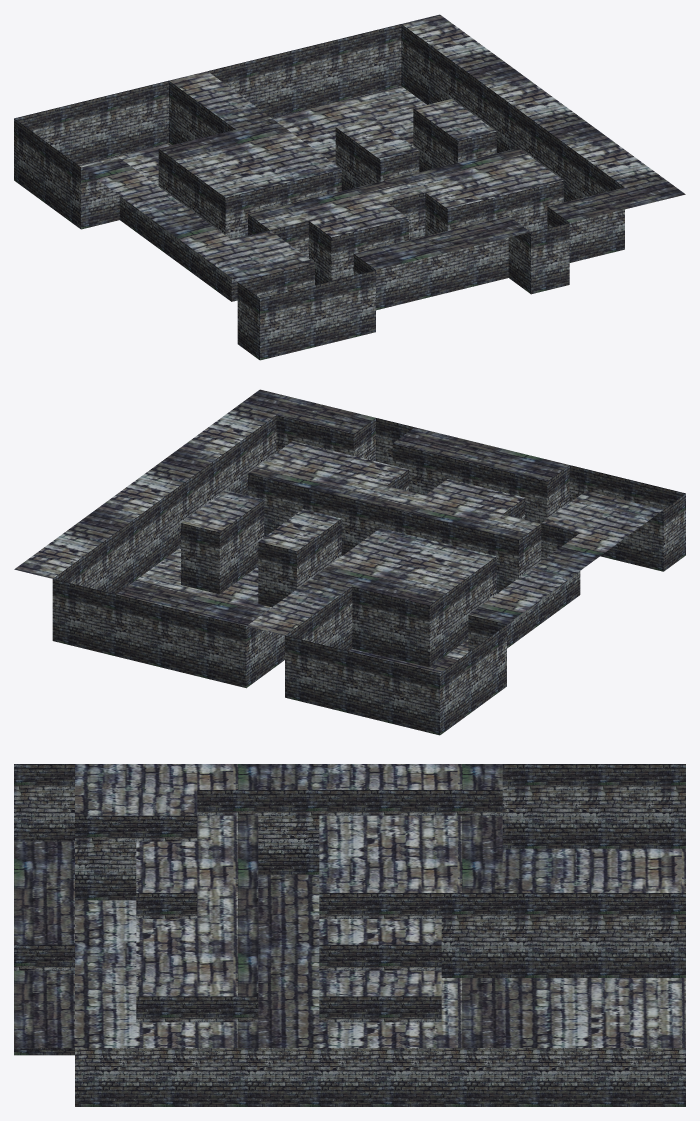
The model's file is map01.FBX.
The picture shows the model from 3 angles, top to bottom: view 1: azimuth 30°, elevation 25°; view 2: azimuth 150°, elevation 25°; view 3: azimuth 270°, elevation 25°; orthographic projection. The views are drawn at different scales.
Parts seen in each view (by area): view 1: Plane; view 2: Plane; view 3: Plane.
Part boxes in pixels (x1,y1,x2,y2): Plane: (14, 14, 685, 360); Plane: (14, 389, 685, 735); Plane: (14, 764, 685, 1106).
Bounding box in the file's own units: 28.93 × 4.02 × 28.93.
